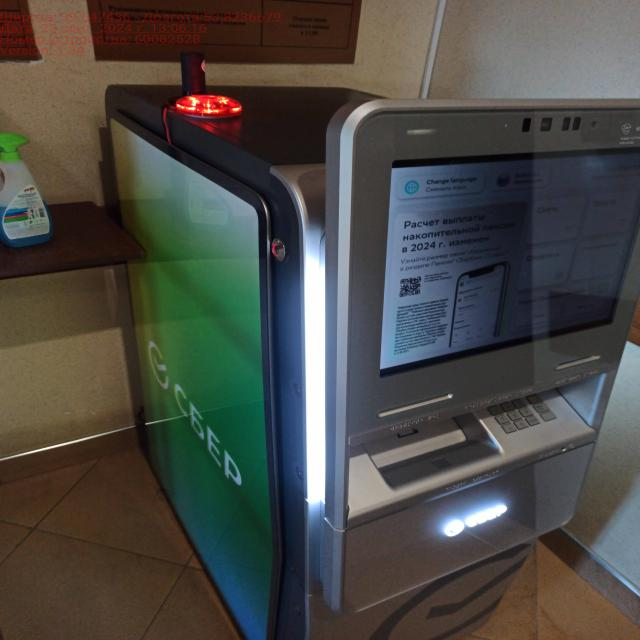bank: (101, 83, 640, 640)
